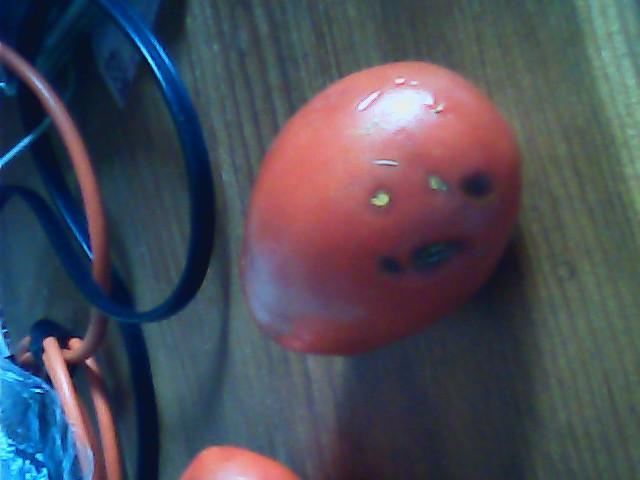defectuoso: (237, 60, 521, 357)
